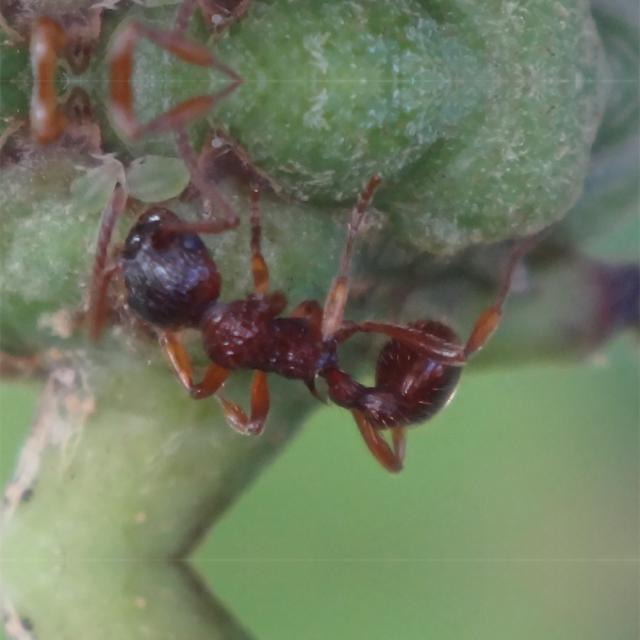Myrmica: (84, 173, 516, 439)
